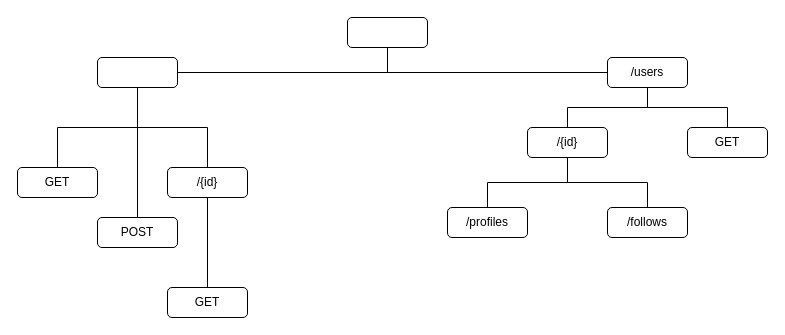
Image size: 785x335. Some labels were removed from this diagram. Here are the shapes that lost their labels. From the top down, the centre of each, then its label:
the point at 387,32: /blog
the point at 137,72: /posts
